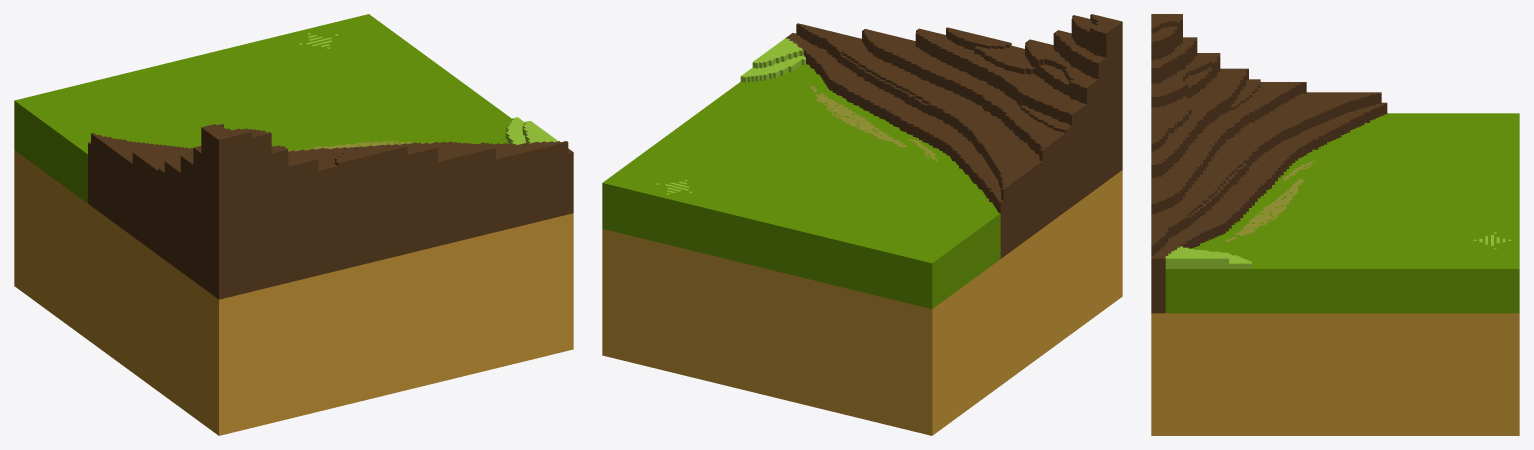
3 views of the same model, side by side, from view 1: azimuth 30°, elevation 25°; view 2: azimuth 150°, elevation 25°; view 3: azimuth 270°, elevation 25° (orthographic). The views are drawn at different scales.
Visible parts, largest first — view 1: 7N; view 2: 7N; view 3: 7N.
Boxes of the visible parts, x1,y1,x2,y2 form: 7N: [14, 14, 573, 435]; 7N: [602, 14, 1122, 435]; 7N: [1151, 14, 1519, 435].
Size of the model in its own units: 12.8 by 10.2 by 12.8.
Materials: 1 (1 with a texture image).
